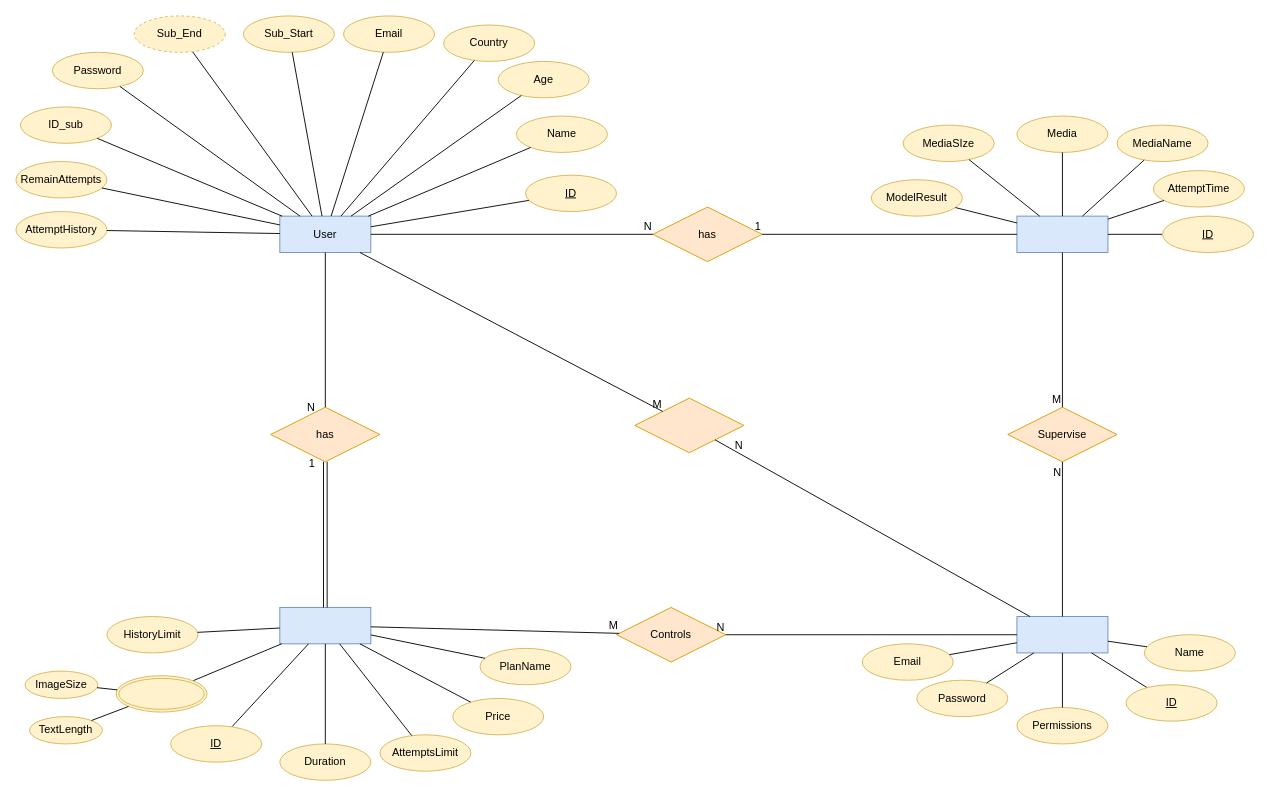
Image size: 1269x796. Some labels were removed from this diagram. Each missing label, with the centre of its shape:
"Admin" goes at point 1062,634.
"DataHistory" goes at point 1062,234.
"Manages" goes at point 689,425.
"SizeLimit" goes at point 161,693.
"Subscription" goes at point 325,625.
